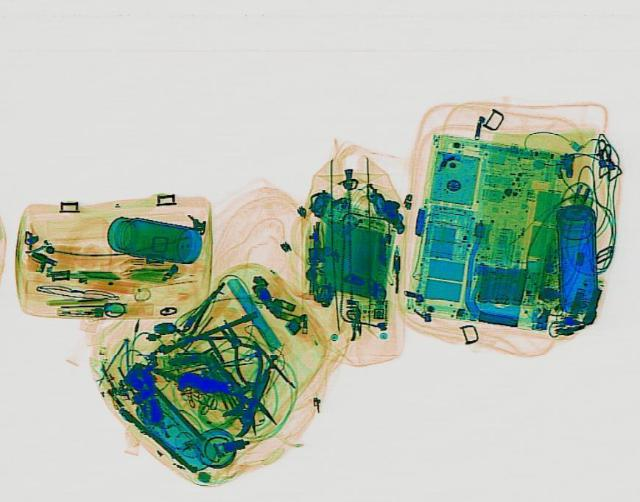Pliers: (205, 336, 289, 437), (200, 310, 282, 385)
